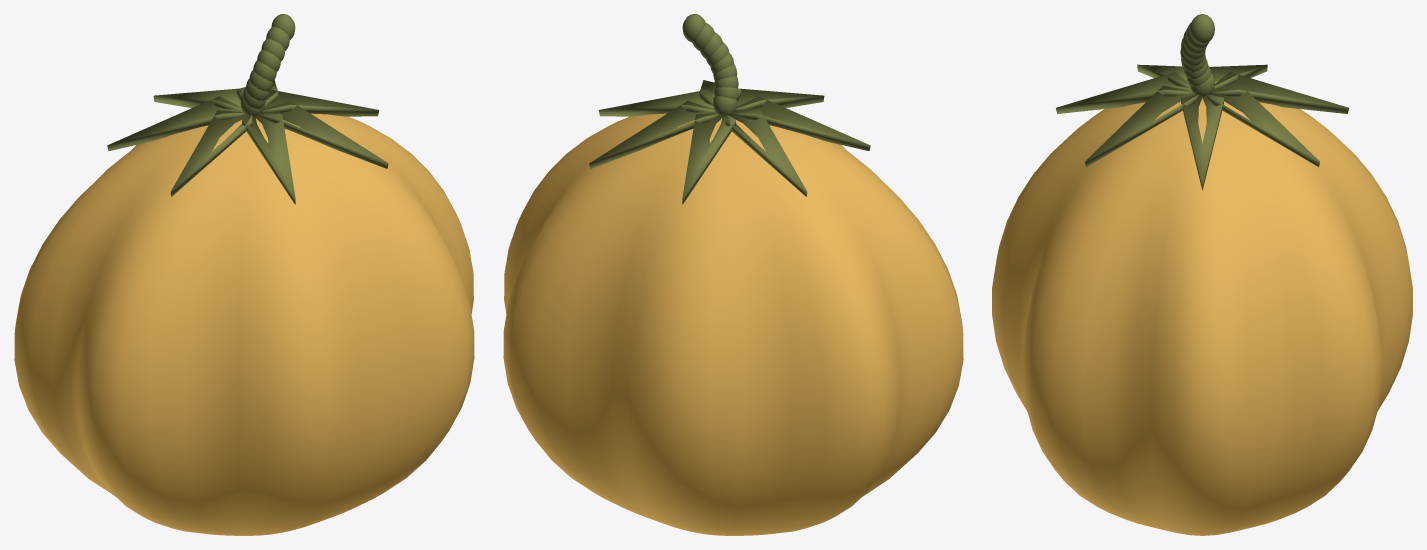
File: golden.glb
3 views of the same model, side by side, from view 1: azimuth 30°, elevation 25°; view 2: azimuth 150°, elevation 25°; view 3: azimuth 270°, elevation 25° (orthographic). The views are drawn at different scales.
Parts seen in each view (by area): view 1: Golden seven-lobe specimen, Calyx leaf.001, Calyx leaf.004, Calyx leaf.002, Calyx leaf.003, Calyx leaf, Calyx leaf.005; view 2: Golden seven-lobe specimen, Calyx leaf.006, Calyx leaf.003, Calyx leaf.005, Calyx leaf.004, Calyx leaf, Calyx leaf.002; view 3: Golden seven-lobe specimen, Calyx leaf.001, Calyx leaf.006, Calyx leaf.005, Calyx leaf.002, Calyx leaf, Calyx leaf.004, Calyx leaf.003, Curled event stem.008.
Part boxes in pixels (x1,y1,x2,y2): Golden seven-lobe specimen: (14,113,474,535); Calyx leaf.001: (258,100,388,168); Calyx leaf.004: (107,96,244,150); Calyx leaf.002: (242,113,295,204); Calyx leaf.003: (170,110,252,196); Calyx leaf: (263,89,379,116); Calyx leaf.005: (153,88,244,109); Golden seven-lobe specimen: (503,113,963,535); Calyx leaf.006: (589,100,719,168); Calyx leaf.003: (733,96,870,150); Calyx leaf.005: (682,113,735,204); Calyx leaf.004: (725,110,807,196); Calyx leaf: (598,89,714,116); Calyx leaf.002: (736,88,824,109); Golden seven-lobe specimen: (992,81,1412,535); Calyx leaf.001: (1085,85,1198,166); Calyx leaf.006: (1206,85,1319,166); Calyx leaf.005: (1212,72,1348,113); Calyx leaf.002: (1056,72,1192,113); Calyx leaf: (1181,94,1223,190); Calyx leaf.004: (1209,64,1267,88); Calyx leaf.003: (1137,64,1190,88); Curled event stem.008: (1190,14,1214,44).
Size of the model in its own units: 1.29 by 1.47 by 1.1.
